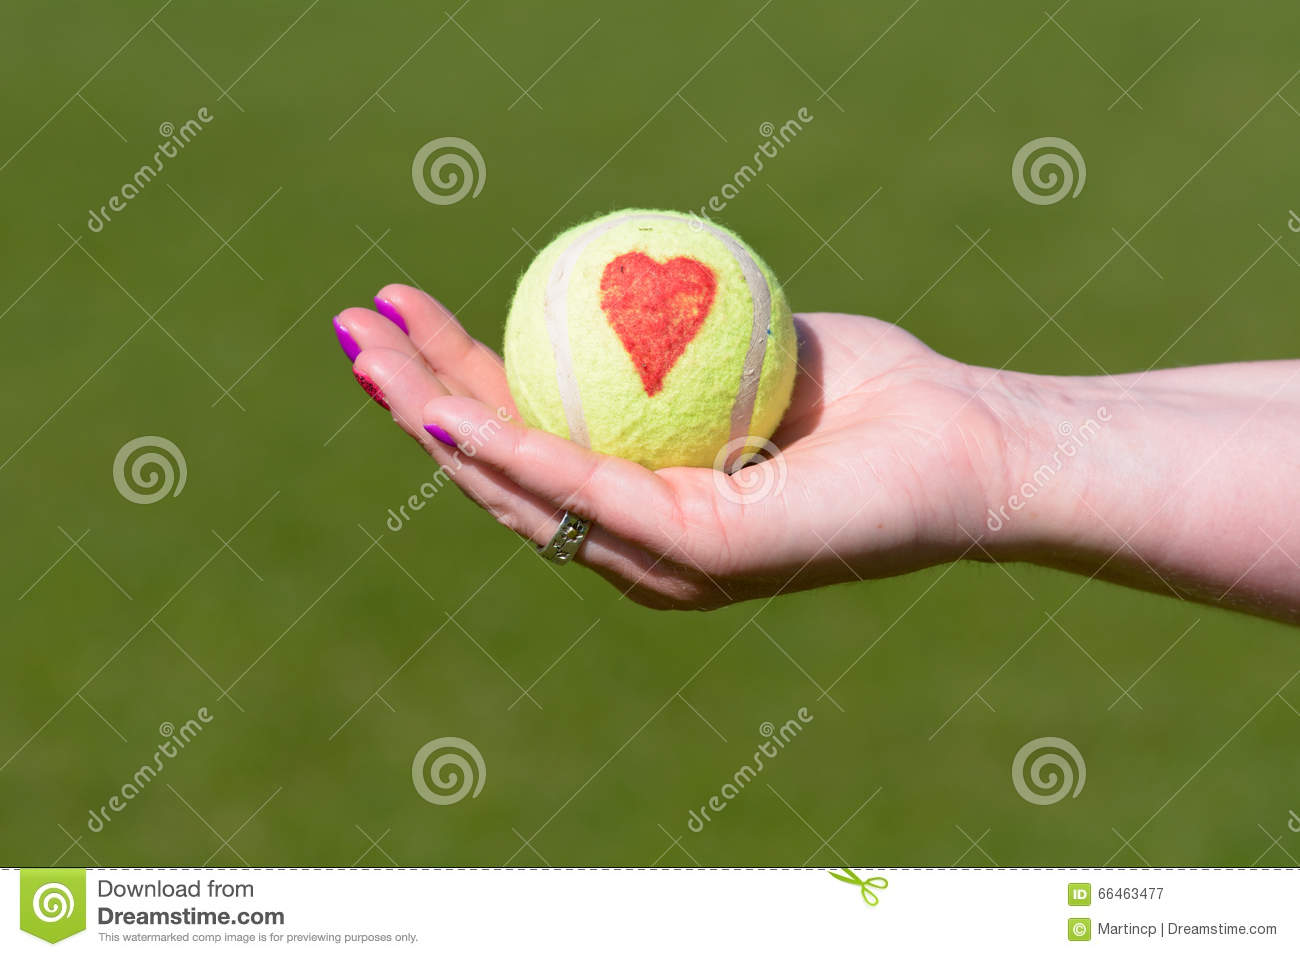tennis_ball: (499, 205, 807, 484)
